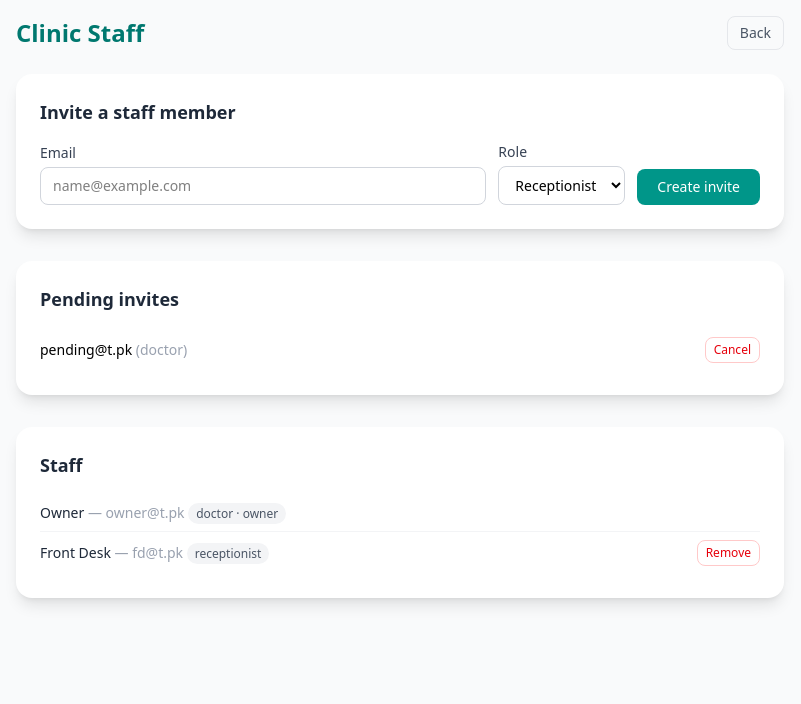
Test case: ClinicStaffPage › creates an invite and shows the shareable link
Expected: the text "Front Desk" is shown, [40,543,111,562]
Type "x@t.pk" into the field labelled "Email". click: (263, 186)
box: [40,167,486,205]
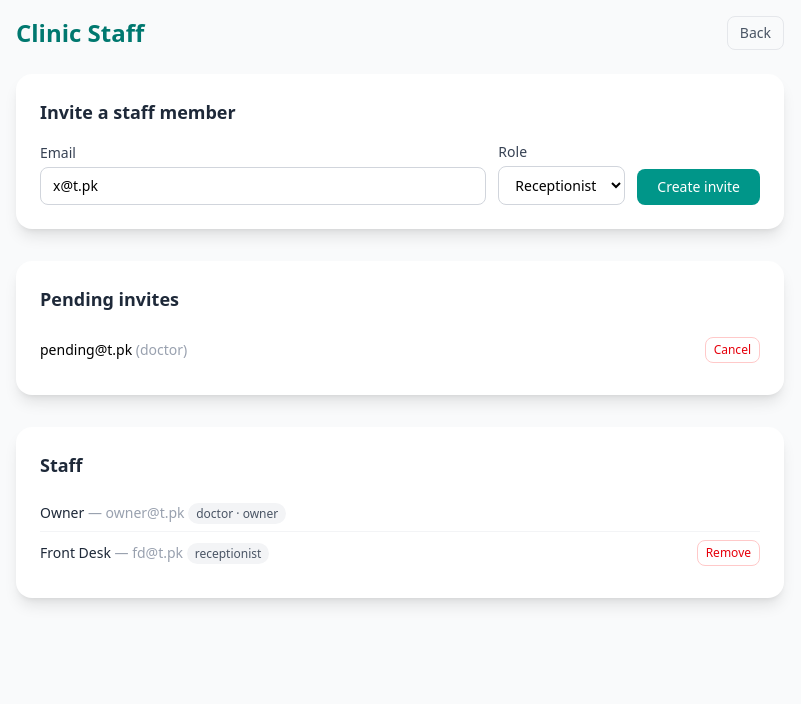
Click the button "Create invite". click: (699, 187)
box: [637,169,760,205]
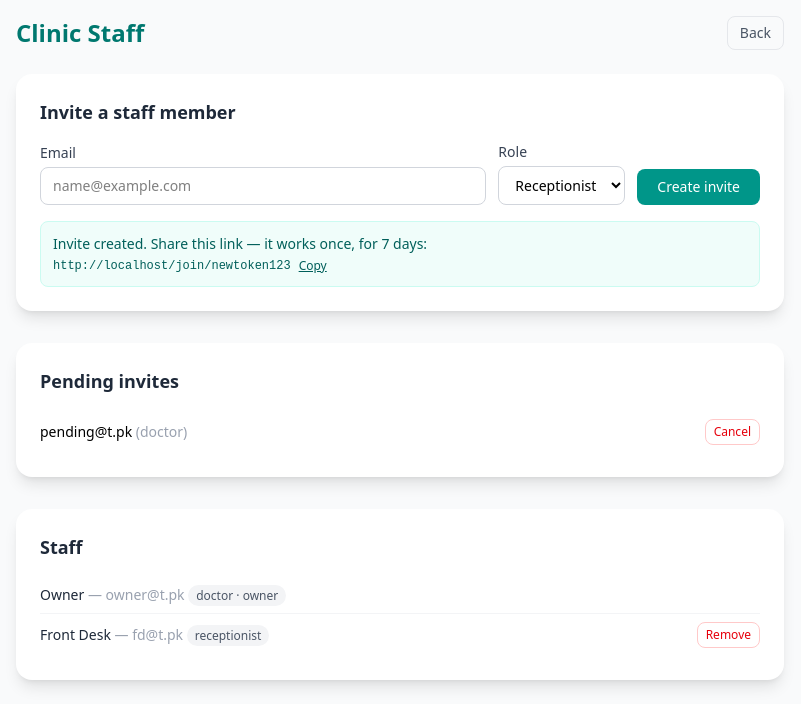
Expected: the text "http://localhost/join/newtoken123" is shown, [53,258,291,274]
